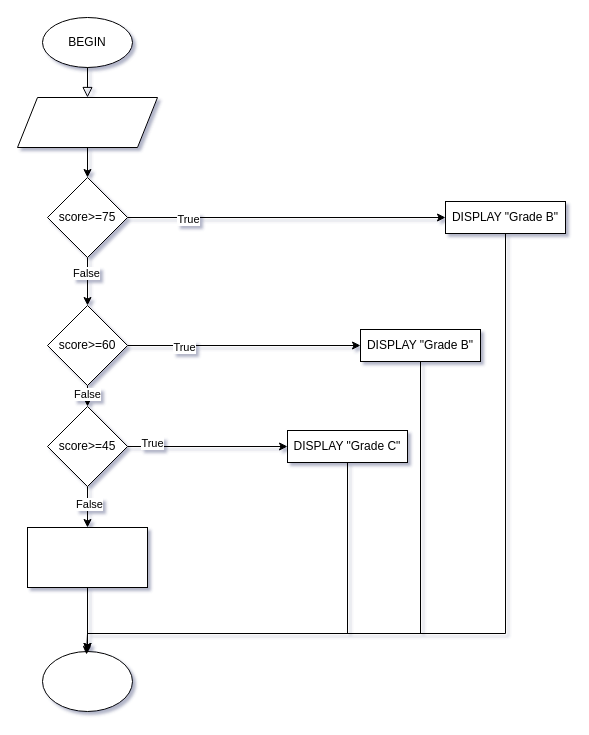
Image size: 589x735. Some labels were removed from this diagram. The shapes that lost their labels are listed below. From the top down, each one's centre as x and y in pixels, then its label:
(x=87, y=122): INPUT score;
(x=87, y=557): DISPLAY "Grade D"
(x=87, y=681): END
